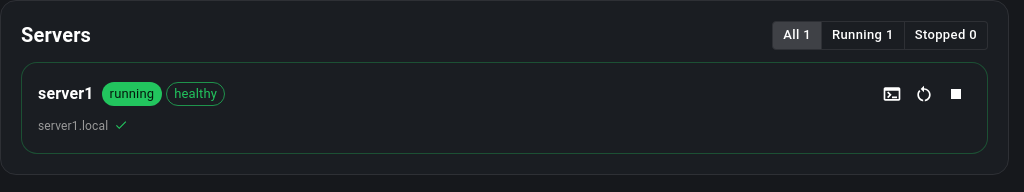
Test: ServerOverview › hostname copy › shows copied feedback in the tooltip
The image size is (1024, 192).
Hover over the button named "Copy hostname of server1": coordinates (121, 125) [112, 116, 130, 134]
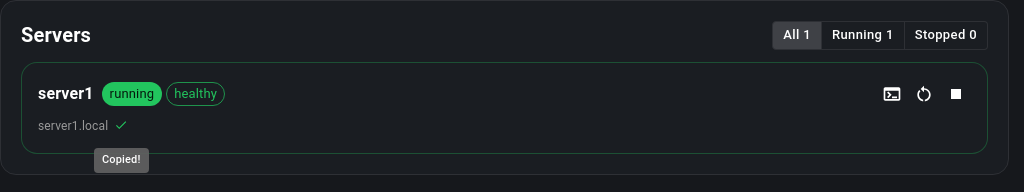
Now the tooltip reads "Copied!", box [102, 153, 141, 166]
